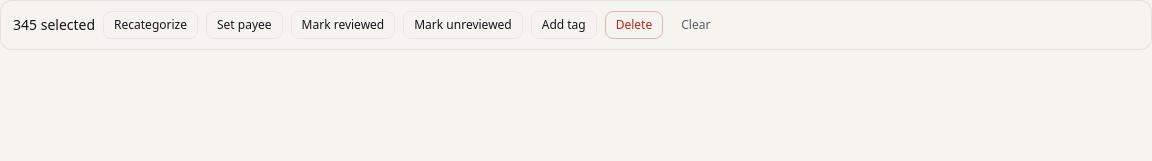
BulkActionsToolbar — the matched set's single request › names a skipped row the browser never loaded, from the server's own label
Click the button with aria-label "Delete 345 selected" at (634, 25), box [605,11,663,39]
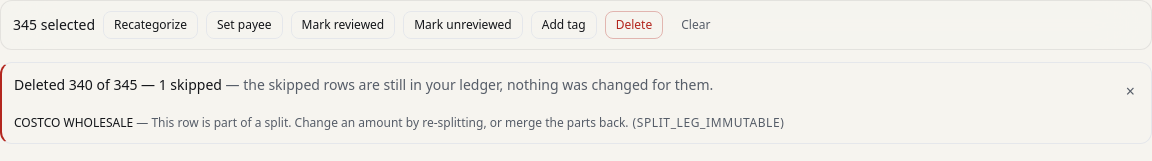
Check: the message shows "Deleted 340 of 345 — 1 skipped", box [14,75,222,94]
Check: the message shows "COSTCO WHOLESALE", box [14,114,133,131]
Check: the message shows "(split_leg_immutable)", box [637,114,780,131]
